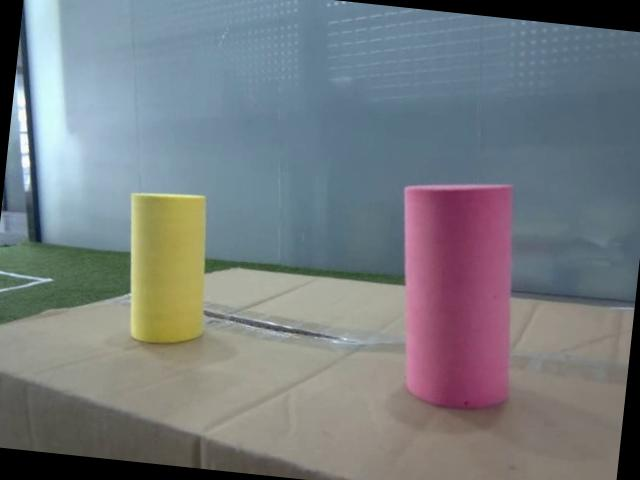red_cylinder: (385, 177, 524, 409)
yellow_cylinder: (114, 188, 218, 348)
